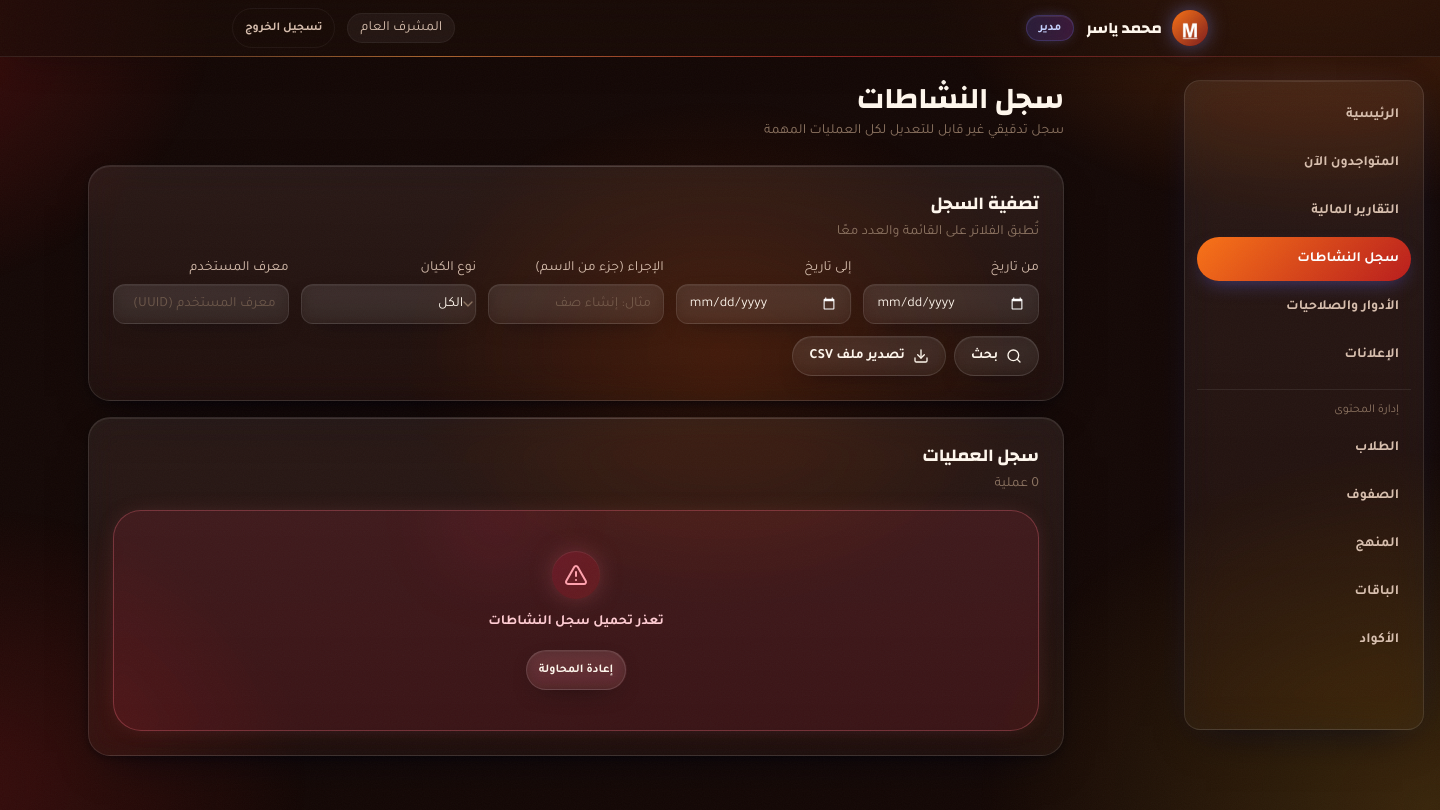
Test case: AuditLogPage › shows an error state with retry when the list fails to load
Expected: the text "تعذر تحميل سجل النشاطات" is shown, [488,611,664,634]
Click the button "إعادة المحاولة".
click(576, 670)  # box [526,650,626,690]
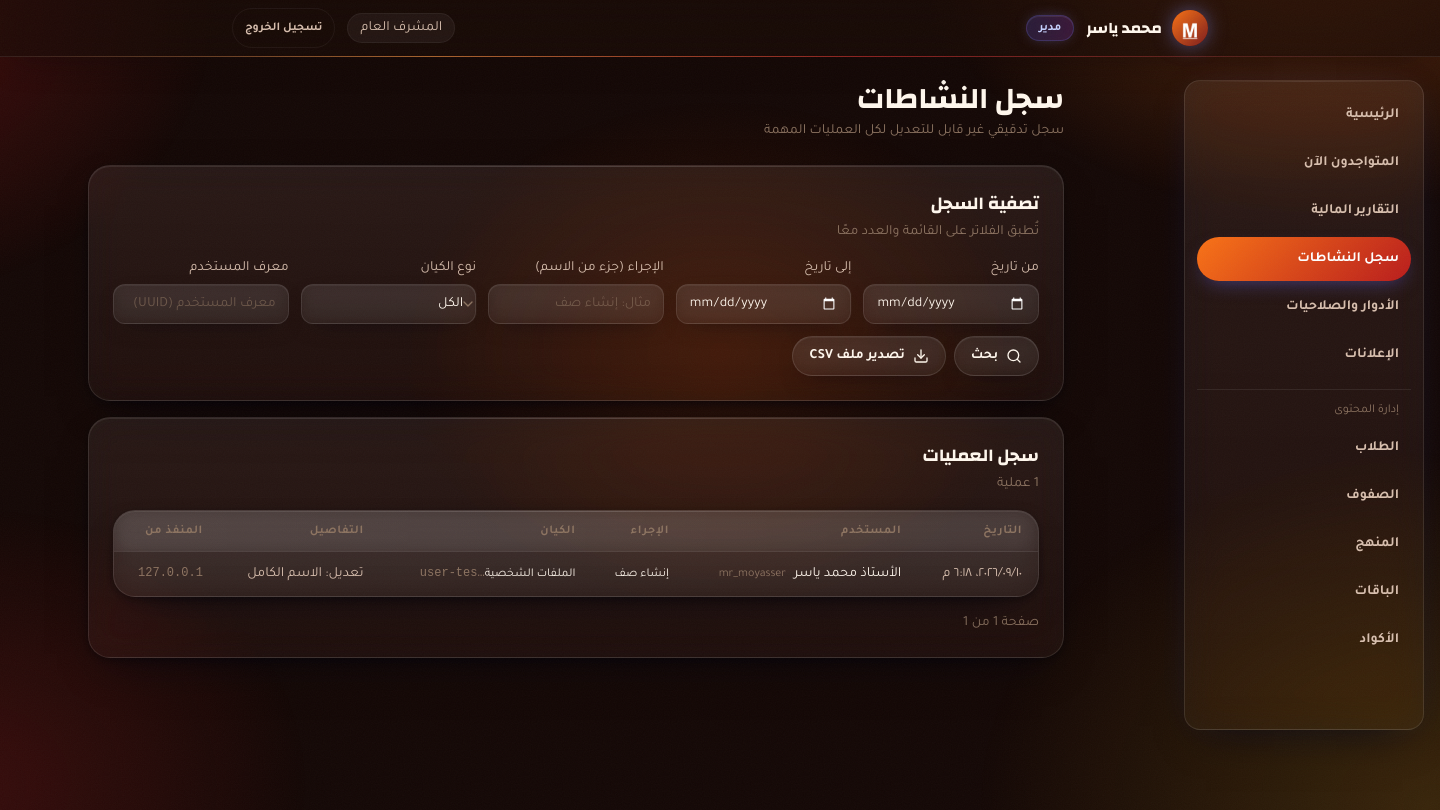
Expected: the text "إنشاء صف" is shown, [614,568,669,580]
